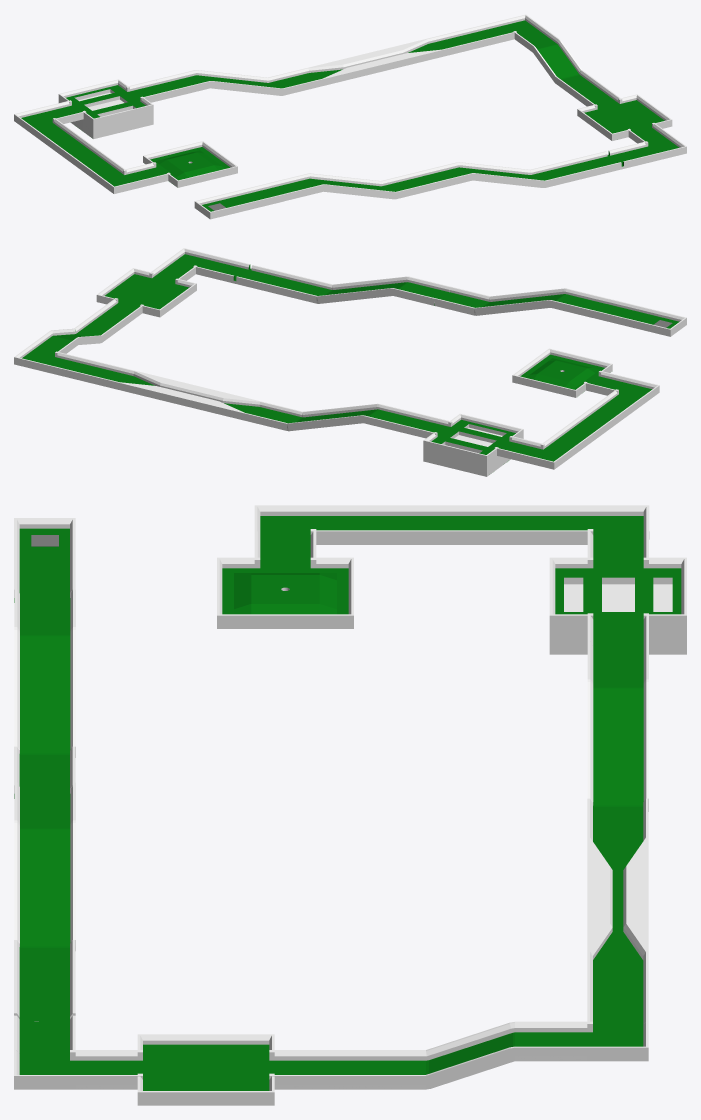
Rendered from Level16Model.obj.
The picture shows the model from 3 angles, top to bottom: view 1: azimuth 30°, elevation 25°; view 2: azimuth 150°, elevation 25°; view 3: azimuth 270°, elevation 25°; orthographic projection. The views are drawn at different scales.
Visible parts, largest first — view 1: Level16Model:pCube2; view 2: Level16Model:pCube2; view 3: Level16Model:pCube2.
Boxes of the visible parts, x1,y1,x2,y2 form: Level16Model:pCube2: (14,14,686,219); Level16Model:pCube2: (14,248,686,476); Level16Model:pCube2: (14,505,686,1105).
Bounding box in the file's own units: 43.88 × 4.54 × 24.53.
7 materials, 6 textured.
